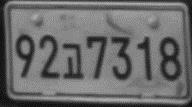1: (136, 36, 153, 83)
2: (37, 33, 60, 80)
3: (109, 35, 132, 80)
7: (85, 34, 108, 80)
8: (159, 35, 182, 81)
9: (14, 33, 36, 79)
고: (61, 42, 83, 80)
